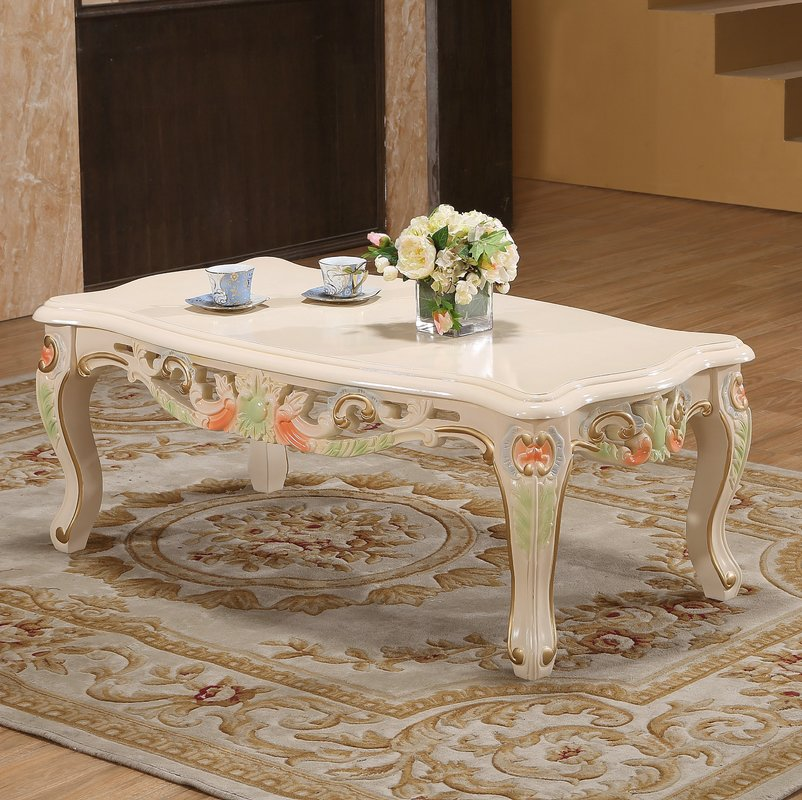Carving Table: (44, 251, 802, 720)
